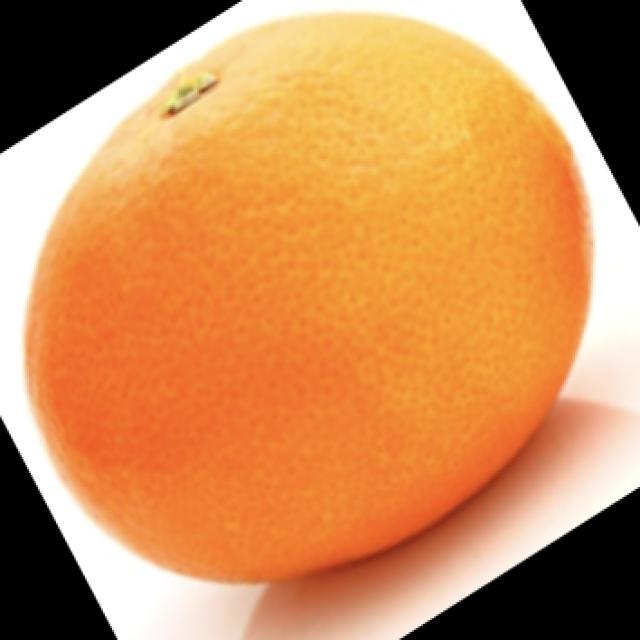Orange: (22, 7, 595, 584)
